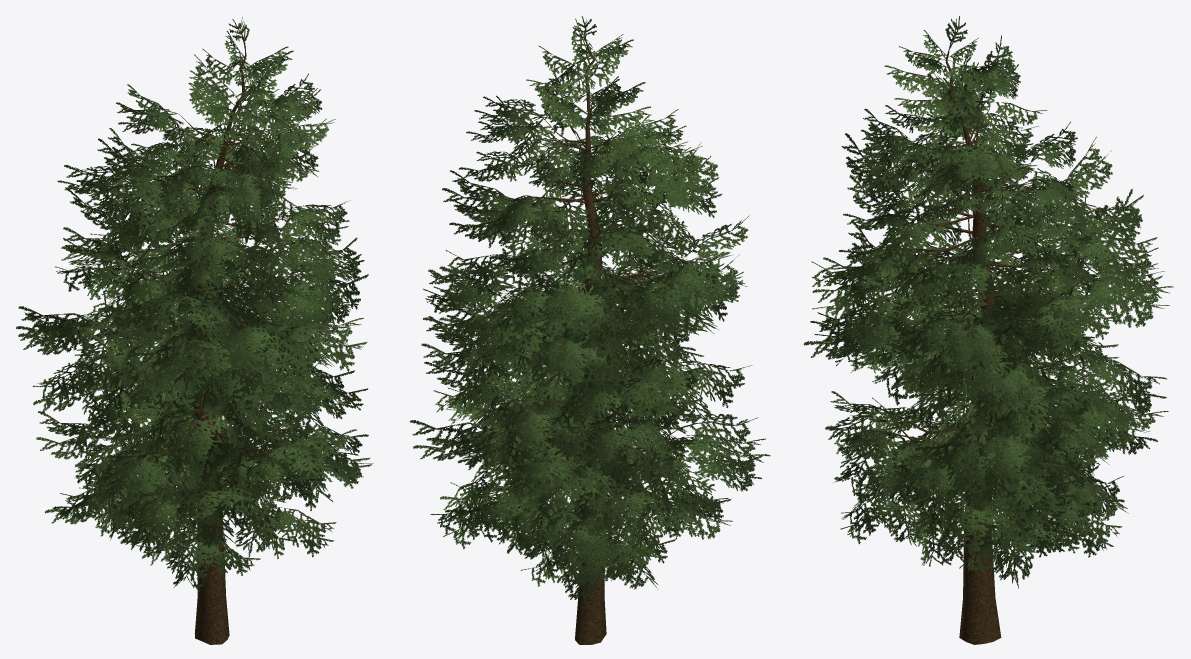
The model's file is baum_fichte_2_lod0.glb.
3 renders of one model, left to right at view 1: azimuth 30°, elevation 25°; view 2: azimuth 150°, elevation 25°; view 3: azimuth 270°, elevation 25°, orthographic. The views are drawn at different scales.
Visible parts, largest first — view 1: Krone, Stamm; view 2: Krone, Stamm; view 3: Krone, Stamm.
Boxes of the visible parts, <box> form: Krone: <box>16,16,373,592</box>; Stamm: <box>103,49,295,644</box>; Krone: <box>410,16,770,607</box>; Stamm: <box>497,43,687,644</box>; Krone: <box>803,16,1173,588</box>; Stamm: <box>888,49,1088,644</box>.
Size of the model in its own units: 9.13 by 17 by 9.18.
Materials: 2 (2 with a texture image).
